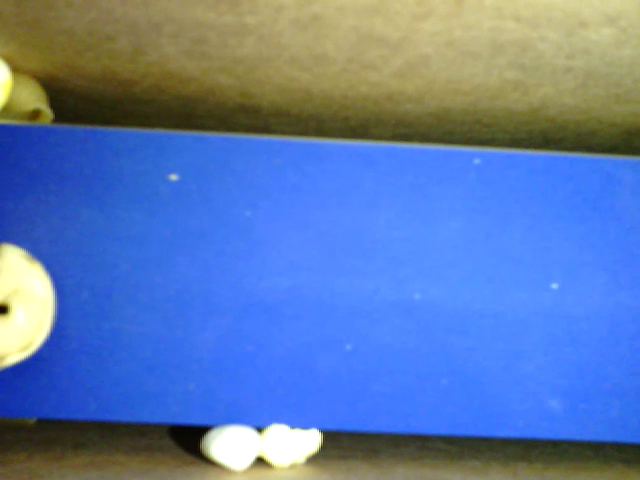shell: (1, 72, 58, 128)
tortellini: (3, 238, 58, 371)
